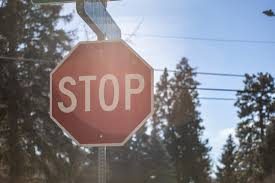stop sign: (49, 39, 154, 148)
